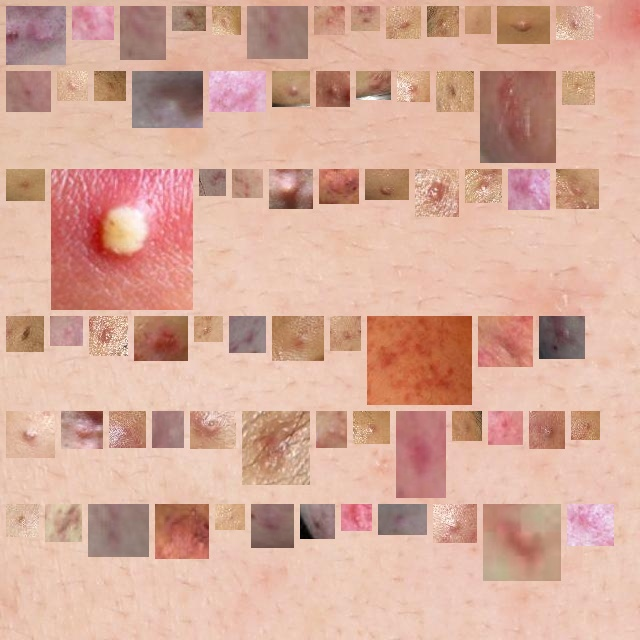papule: (59, 177, 185, 302), (375, 324, 464, 397), (488, 79, 548, 155), (491, 512, 553, 573), (250, 419, 302, 477), (404, 419, 438, 490), (140, 79, 195, 120), (14, 14, 58, 57), (255, 14, 300, 51), (96, 512, 141, 549), (163, 512, 201, 551), (486, 324, 525, 359), (128, 14, 158, 52), (142, 324, 180, 353), (280, 324, 316, 353), (217, 79, 258, 104), (14, 419, 47, 450), (423, 177, 451, 209), (505, 14, 542, 36), (547, 324, 577, 351), (575, 512, 606, 538), (259, 512, 286, 540), (14, 79, 43, 104), (277, 177, 305, 201), (198, 419, 228, 441), (516, 177, 542, 202), (564, 177, 591, 201), (441, 512, 469, 535), (373, 177, 401, 199), (69, 419, 95, 441), (97, 324, 120, 348), (444, 79, 466, 104), (386, 512, 419, 527), (80, 14, 106, 32), (53, 512, 74, 534), (327, 177, 351, 196), (237, 324, 258, 345), (117, 419, 138, 440), (280, 79, 302, 99), (14, 324, 36, 344), (537, 419, 557, 441), (564, 14, 586, 32), (473, 177, 494, 195), (14, 177, 37, 193), (308, 512, 327, 531), (324, 79, 342, 99), (361, 419, 382, 436), (496, 419, 515, 437), (160, 419, 176, 440), (394, 14, 413, 31), (324, 419, 339, 440), (570, 79, 587, 97), (14, 512, 31, 529), (338, 324, 353, 343), (405, 79, 422, 94), (180, 9, 198, 23), (364, 79, 383, 92), (435, 14, 451, 29), (58, 324, 75, 338), (102, 79, 118, 93), (65, 79, 80, 93), (460, 419, 474, 433), (322, 14, 337, 27), (240, 177, 255, 190), (220, 14, 233, 27), (579, 419, 592, 432), (349, 512, 364, 523), (223, 512, 237, 522), (202, 324, 215, 334), (207, 177, 218, 188), (473, 14, 483, 26), (359, 14, 372, 23)
